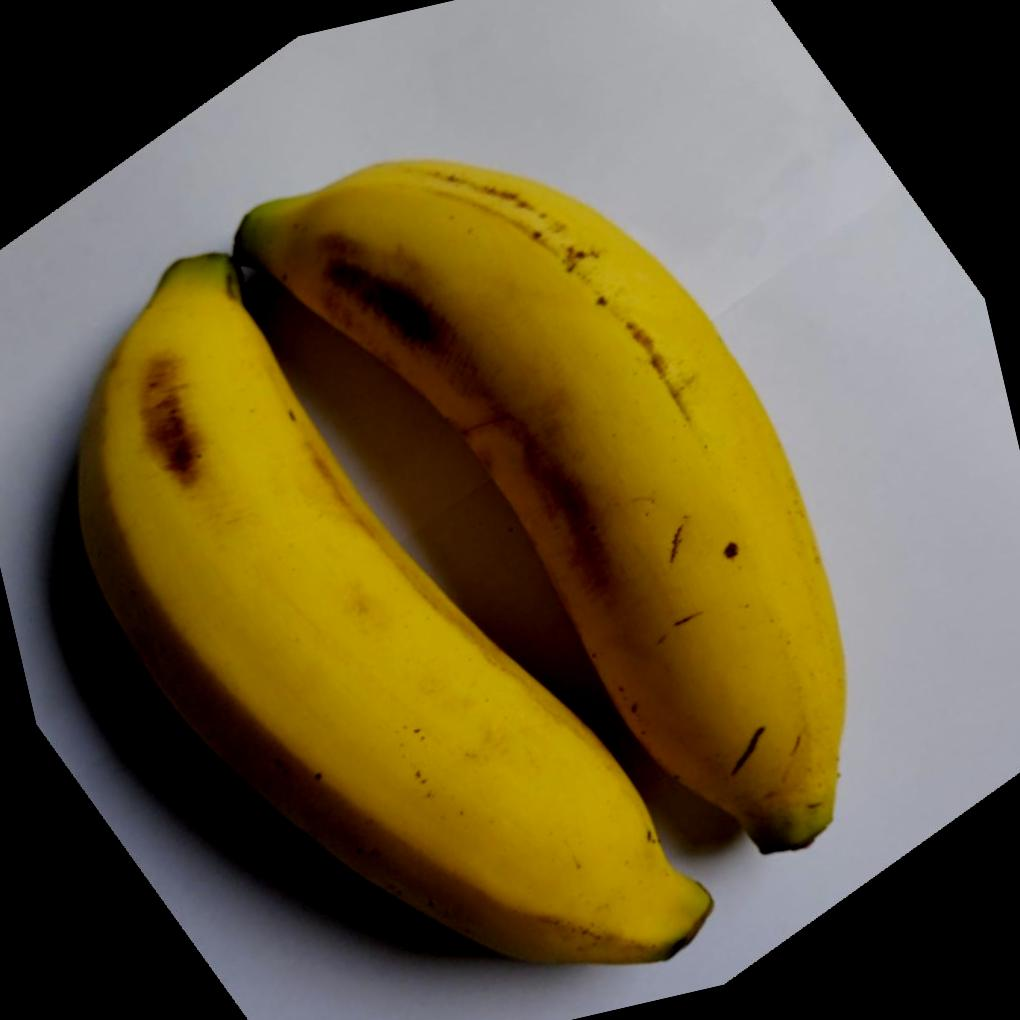Banana Ripe: (14, 99, 909, 1020), (224, 45, 977, 980)
